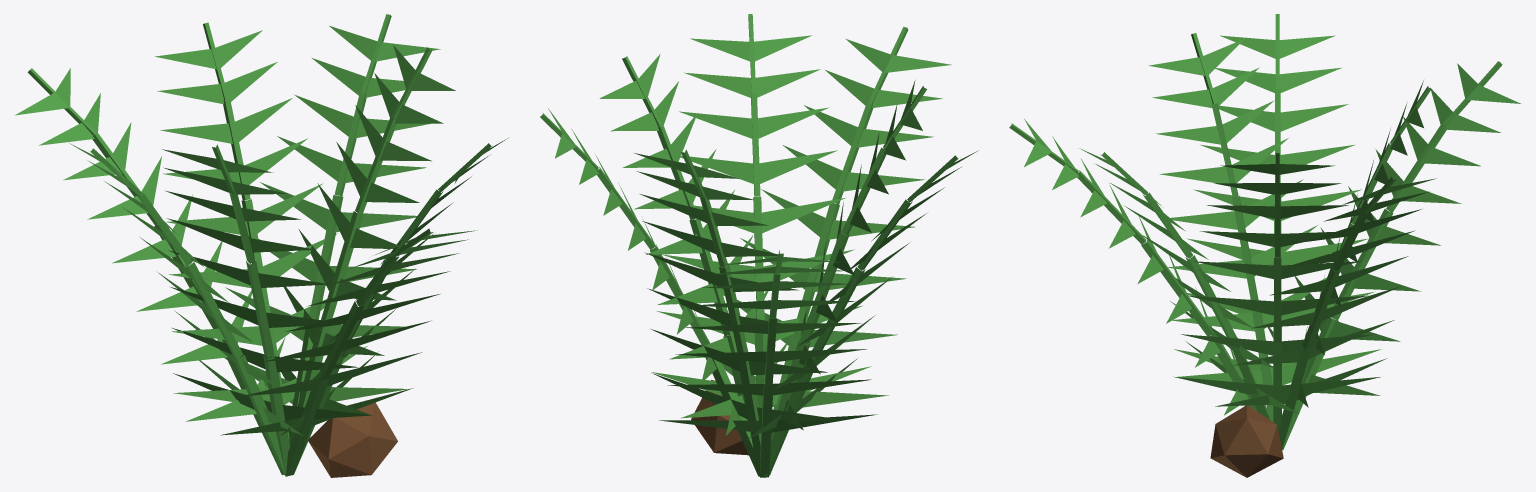
The model's file is viet_nipa_palm.glb.
3 renders of one model, left to right at view 1: azimuth 30°, elevation 25°; view 2: azimuth 150°, elevation 25°; view 3: azimuth 270°, elevation 25°, orthographic. The views are drawn at different scales.
Parts seen in each view (by area): view 1: viet_nipa_palm; view 2: viet_nipa_palm; view 3: viet_nipa_palm.
Part boxes in pixels (x1,y1,x2,y2): viet_nipa_palm: (15,14,507,477); viet_nipa_palm: (540,14,978,477); viet_nipa_palm: (1009,14,1520,477).
Size of the model in its own units: 0.8053 by 0.7828 by 1.
